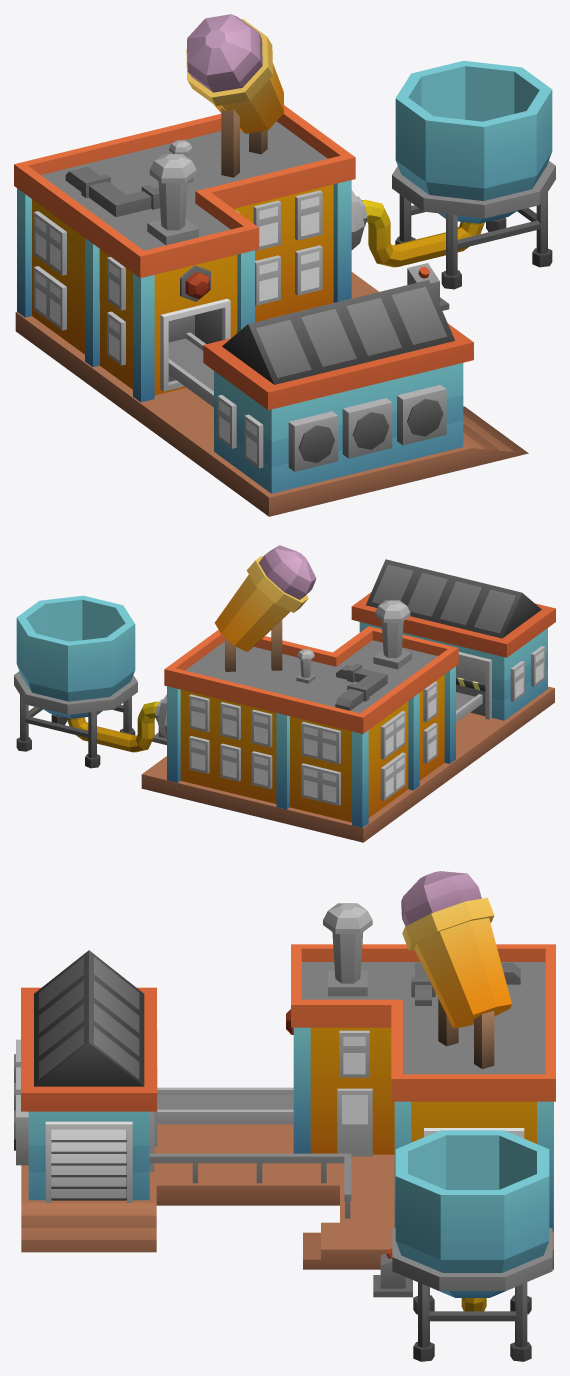
File: ice cream factory house.fbx
3 views of the same model, one above another, from view 1: azimuth 30°, elevation 25°; view 2: azimuth 150°, elevation 25°; view 3: azimuth 270°, elevation 25° (orthographic). The views are drawn at different scales.
Parts seen in each view (by area): view 1: ice_cream_factory_house; view 2: ice_cream_factory_house; view 3: ice_cream_factory_house.
Part boxes in pixels (x1=…): ice_cream_factory_house: x1=14, y1=14, x2=555, y2=516; ice_cream_factory_house: x1=14, y1=545, x2=555, y2=842; ice_cream_factory_house: x1=14, y1=871, x2=555, y2=1361.
Size of the model in its own units: 1705 by 1038 by 1554.
Materials: 1 (1 with a texture image).
